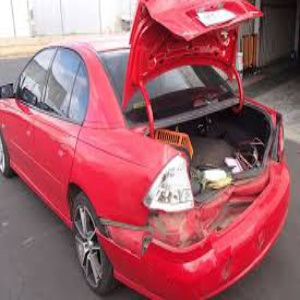bumper_scratch: (168, 225, 268, 283)
